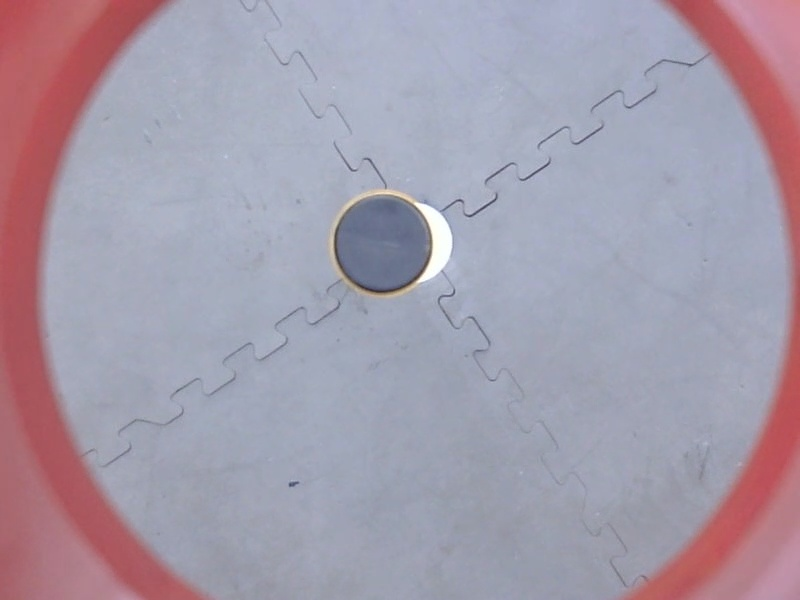tip: (324, 187, 441, 302)
